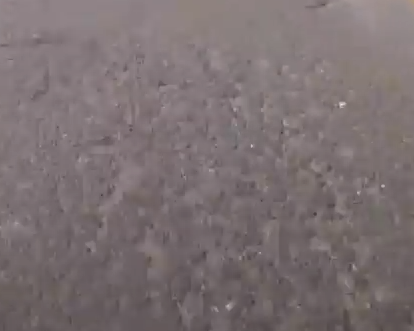Retak Buaya: (50, 80, 359, 313), (290, 1, 343, 13)
